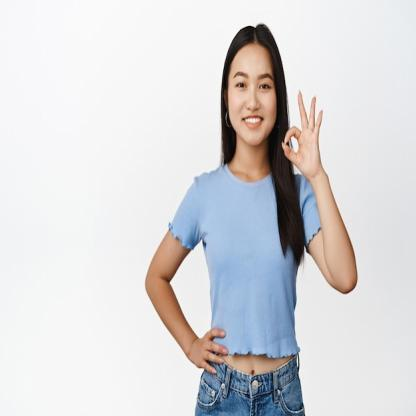ok: (278, 88, 324, 176)
